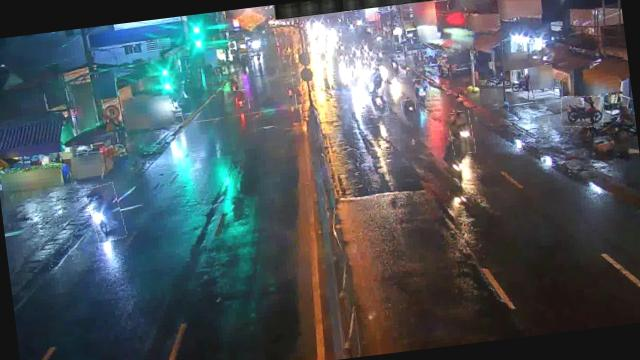Bike: (86, 182, 126, 243), (558, 93, 605, 130), (448, 110, 475, 154), (399, 98, 422, 129), (366, 66, 388, 96), (412, 78, 431, 109), (369, 88, 389, 116), (230, 88, 250, 114), (282, 77, 296, 110), (388, 52, 401, 76)
